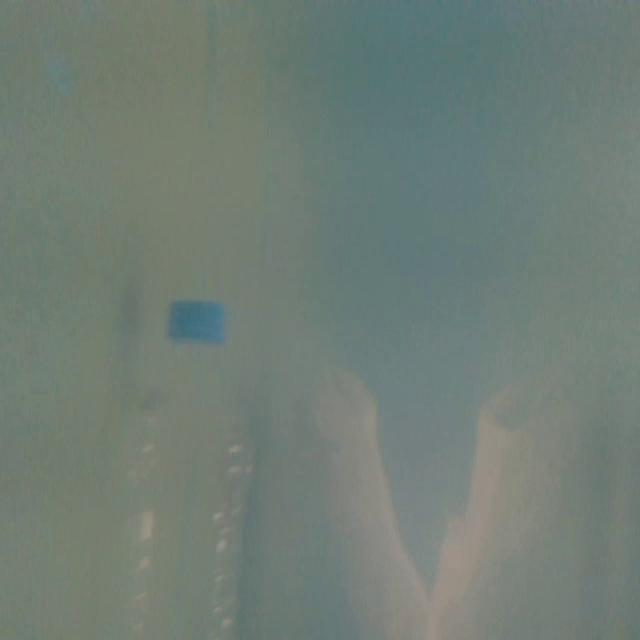plastic bags: (300, 324, 572, 640)
plastic bottle: (125, 293, 262, 640)
